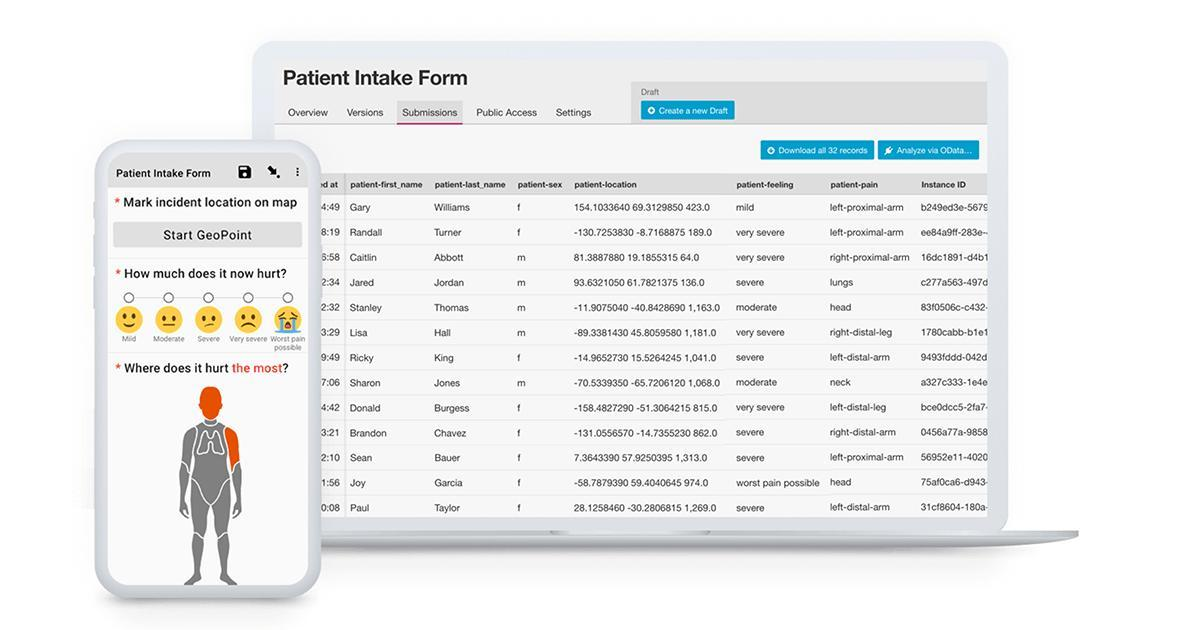button: (114, 221, 306, 250), (757, 139, 877, 163), (877, 139, 982, 162), (641, 99, 739, 122)
icon: (264, 163, 286, 183), (235, 165, 254, 183), (292, 166, 308, 187)
label: (114, 193, 304, 213), (115, 264, 292, 283), (115, 360, 292, 379), (638, 87, 663, 98)
table: (347, 175, 989, 519)
